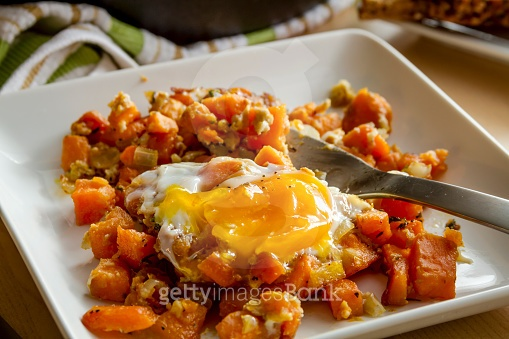fried egg: (133, 160, 375, 265)
